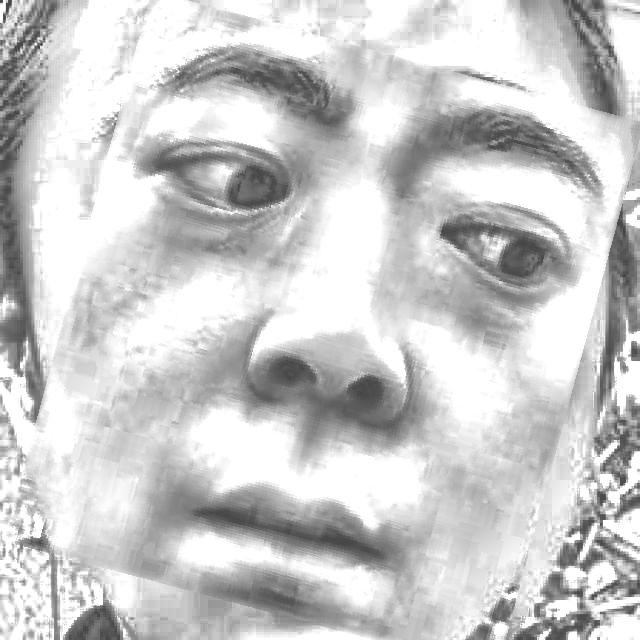fear: (36, 19, 611, 640)
